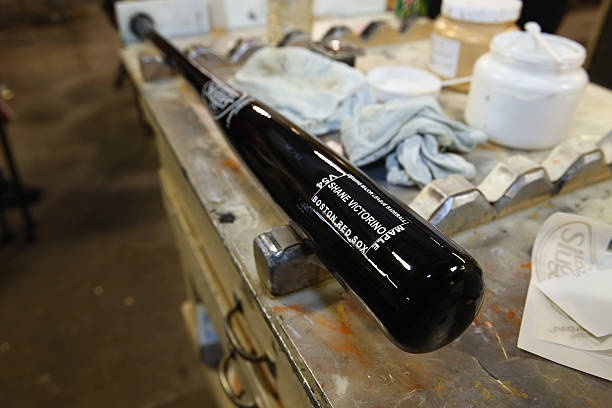bita: (131, 11, 485, 349)
